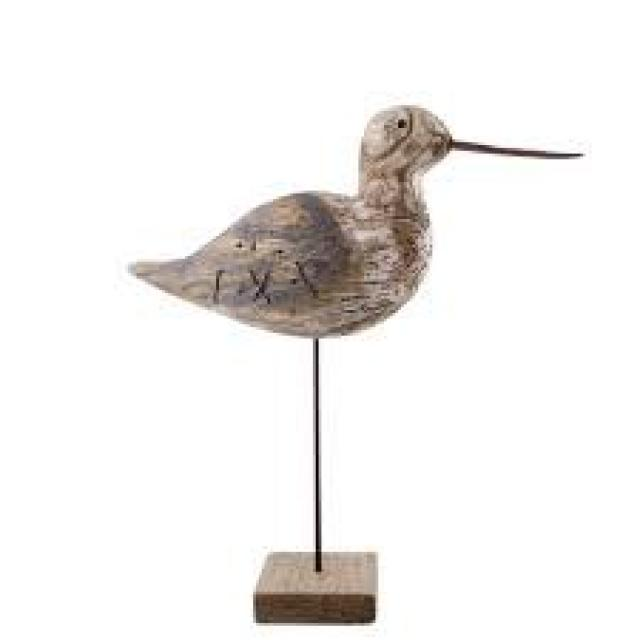Sandpiper: (120, 99, 585, 350)
